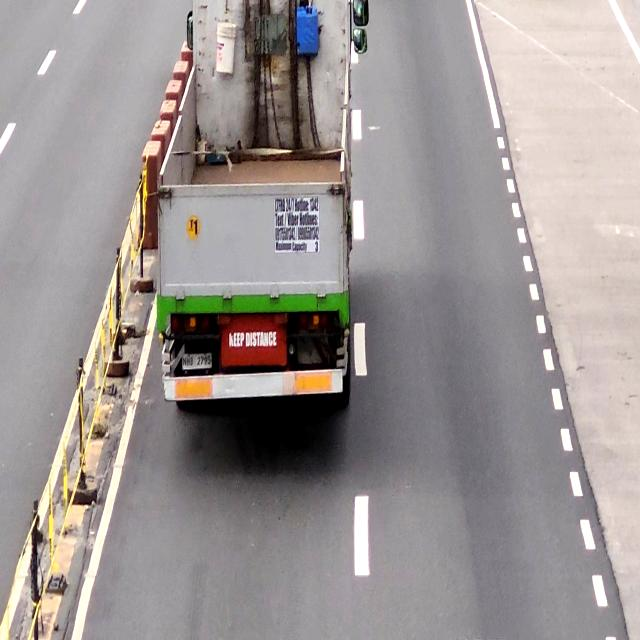License-Plate: (180, 350, 213, 371)
Truck: (155, 0, 369, 409)
